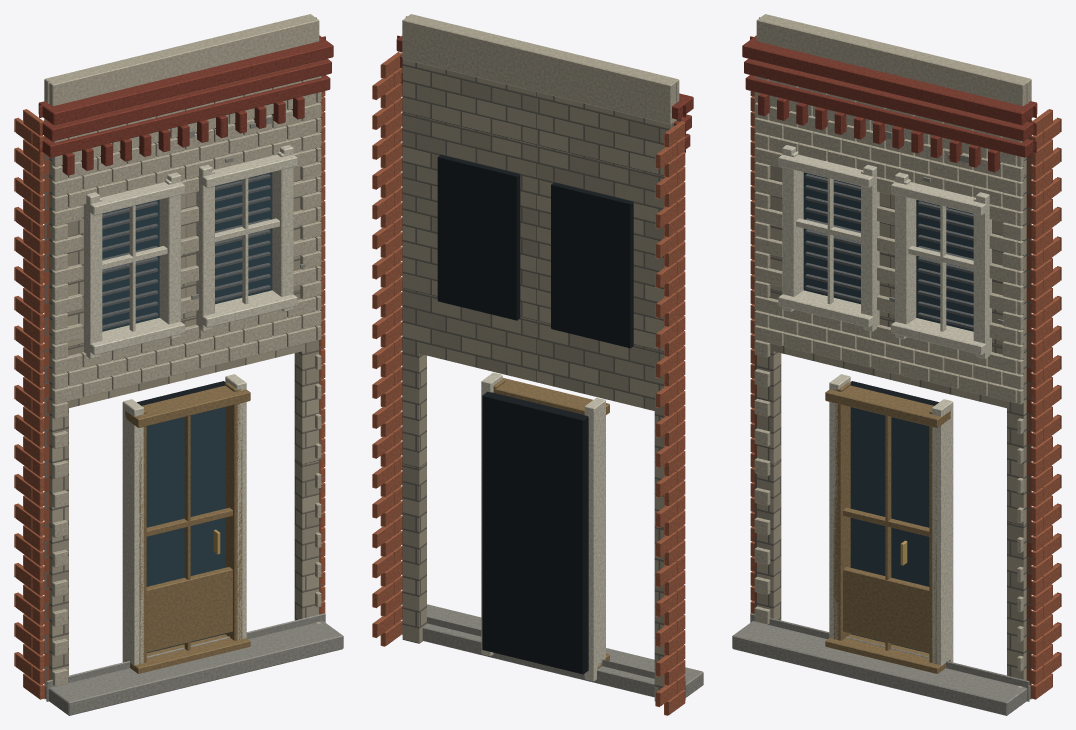
Rendered from CLSTGA14_lod0.glb.
3 views of the same model, side by side, from view 1: azimuth 30°, elevation 25°; view 2: azimuth 150°, elevation 25°; view 3: azimuth 330°, elevation 25° (orthographic).
Parts seen in each view (by area): view 1: CLSTGA14_FRONT_LOD0; view 2: CLSTGA14_FRONT_LOD0; view 3: CLSTGA14_FRONT_LOD0.
Part boxes in pixels (<box>): CLSTGA14_FRONT_LOD0: <box>14,14,343,715</box>; CLSTGA14_FRONT_LOD0: <box>372,14,703,715</box>; CLSTGA14_FRONT_LOD0: <box>732,14,1061,715</box>.
Bounding box in the file's own units: 3.44 × 7.05 × 1.02.
Materials: 16 (13 with a texture image).
